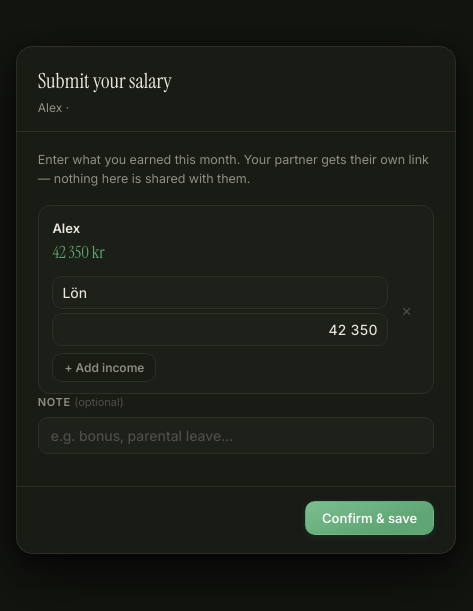
SalarySubmitPage › zero_total: an inline message, form stays (the link is still editable)
Click the button "Confirm & save" at (370, 518), box [305, 501, 434, 535]
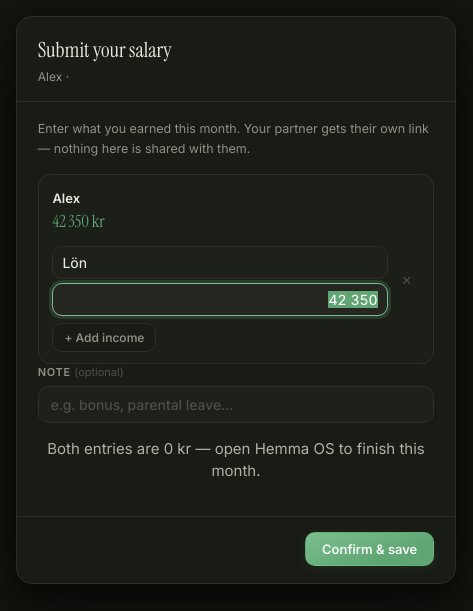
Expected: the button "Confirm & save" is shown, [305, 532, 434, 566]
Result: the text "Both entries are 0 kr — open Hemma OS to finish this month." is shown at [38, 438, 434, 483]
